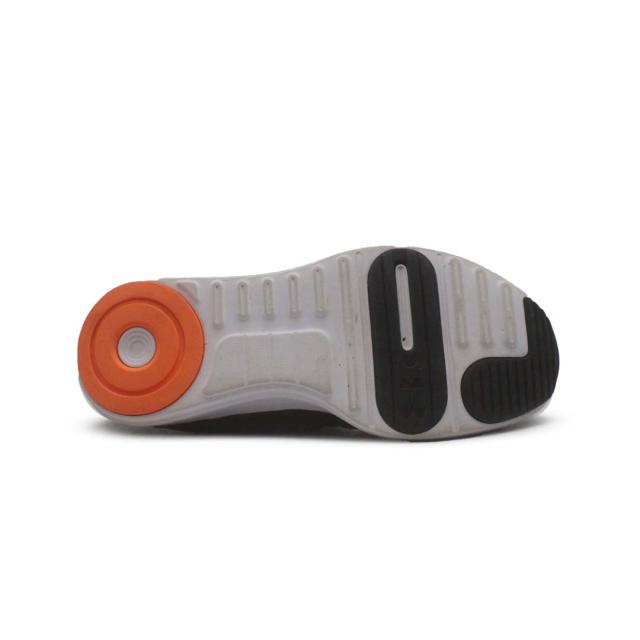outersole: (75, 247, 559, 436)
